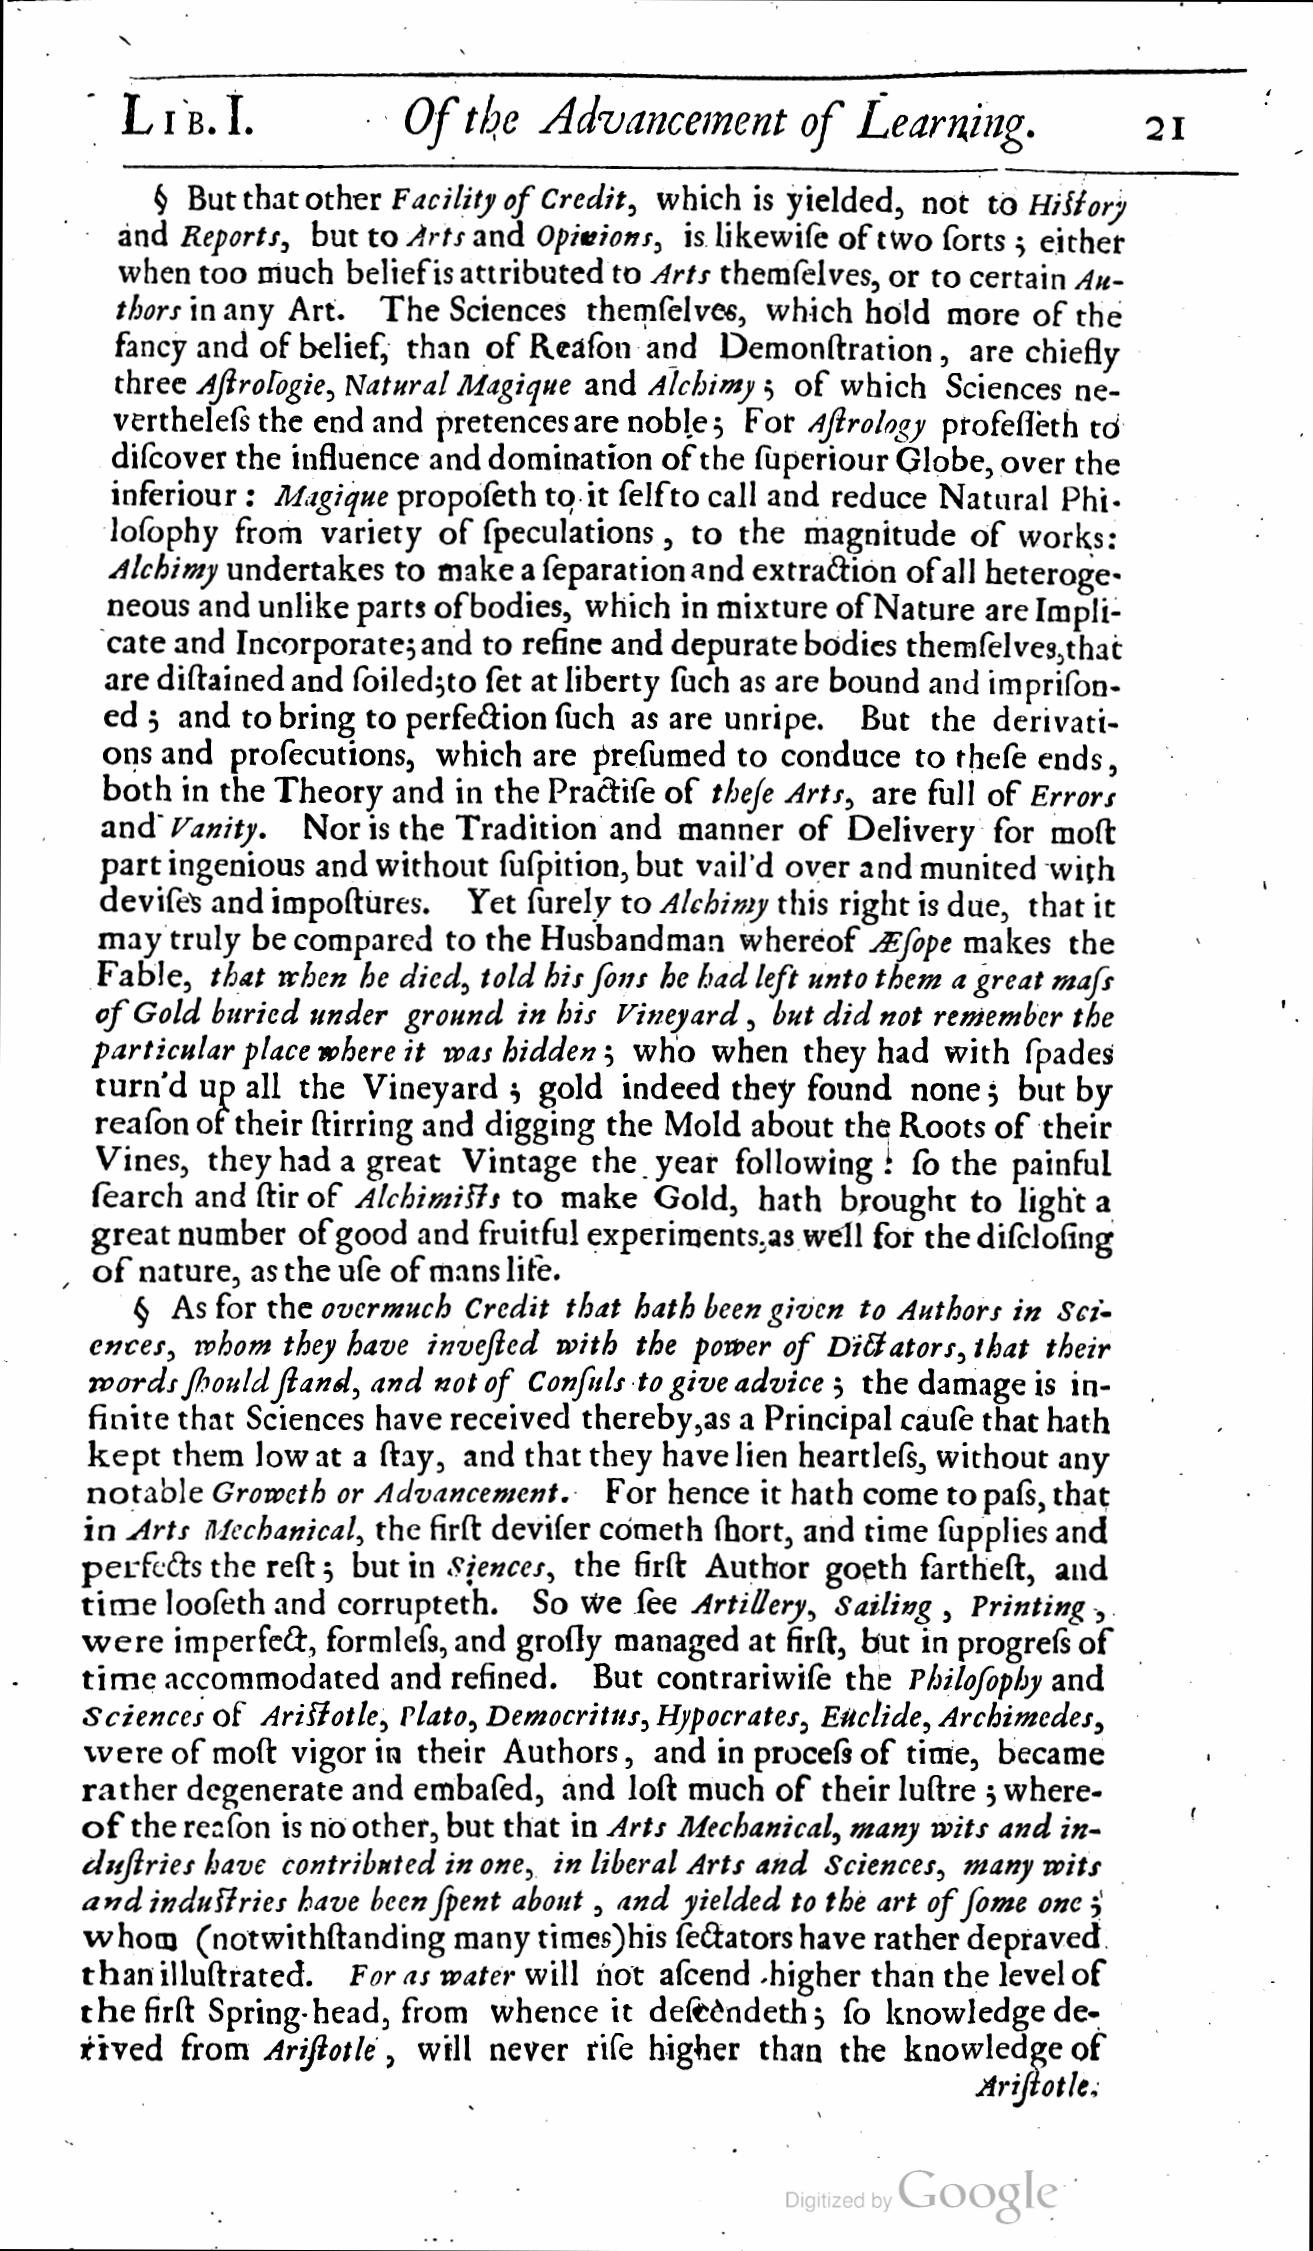catchword: (977, 2070, 1104, 2107)
full_p: (91, 177, 1133, 1290)
header: (109, 80, 1039, 159)
page_num: (1143, 106, 1190, 150)
top_p: (77, 1293, 1113, 2070)
